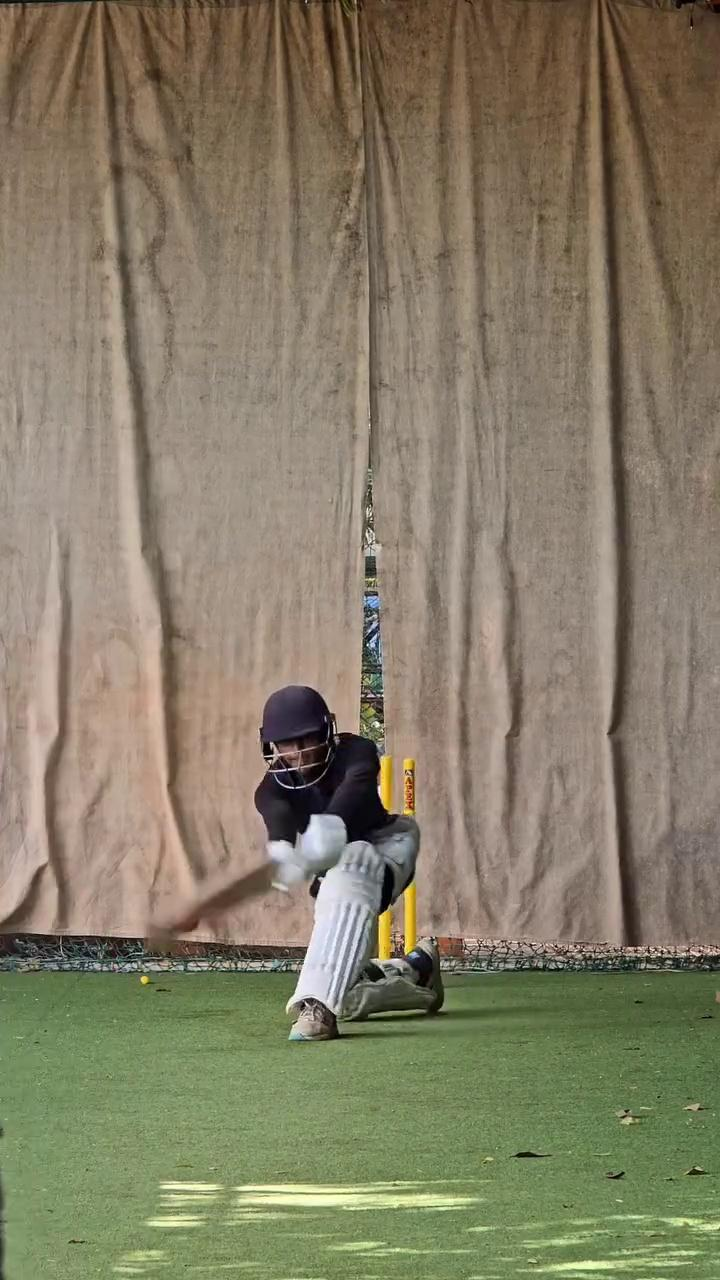bat: (133, 848, 290, 959)
